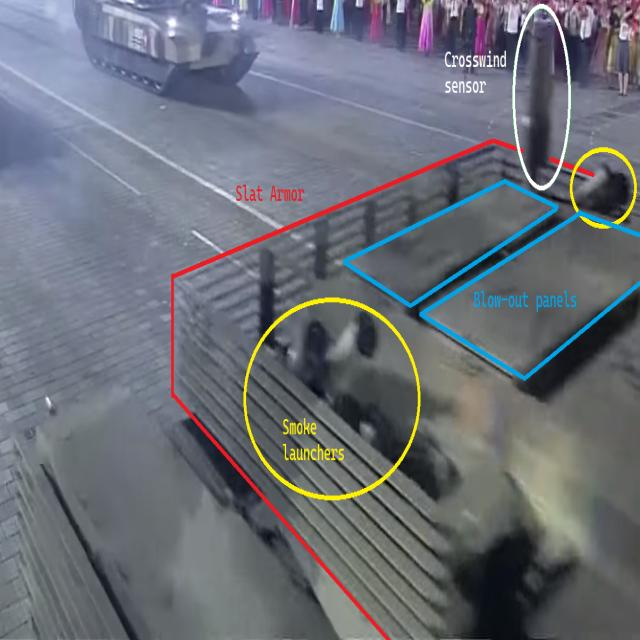north tank: (68, 0, 281, 142)
